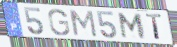5: (23, 6, 45, 36), (96, 10, 118, 40)
G: (47, 8, 71, 37)
M: (69, 9, 99, 38), (118, 12, 147, 40)
T: (144, 13, 163, 41)
